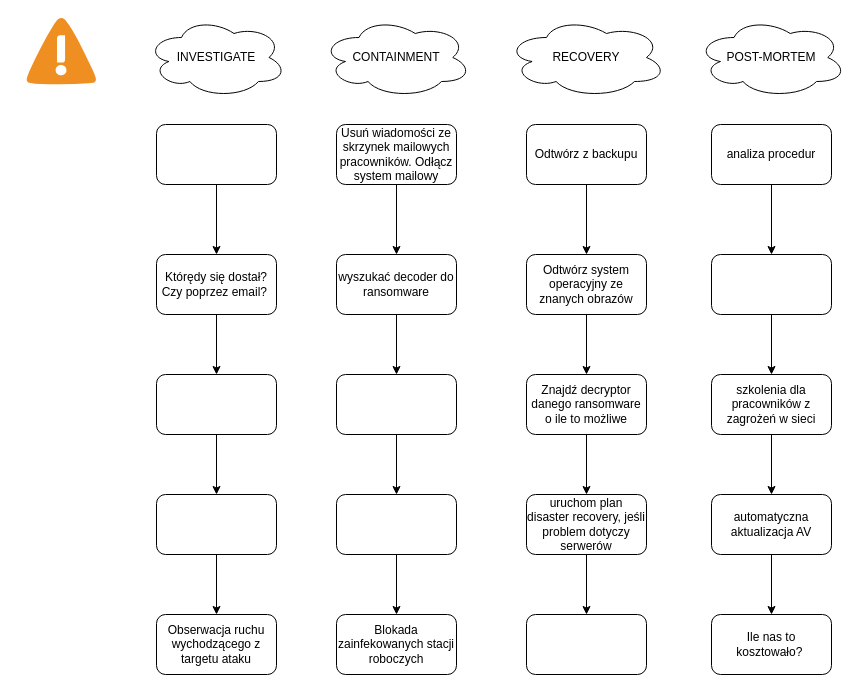
The diagram is 864 pixels wide and 692 high, and some of its shapes have lost their labels. The shapes that lost their labels are listed below. From the top down, each one's centre as x and y in pixels, then its label:
At (61,50): "RANSOMWARE".
At (216,154): "Jaki to jest ransomware? Jakie komunikaty wyświetla".
At (771,284): "Testy odtwarzania z backupu".
At (216,404): "Czy jeden komputer? Jakie systemy zostały zainfekowane?".
At (396,404): "odłączyć komputer od sieci firmowej. wyłącz komputer".
At (216,524): "Jakie pliki zostały zaszyfrowane? Czy dane są newralgiczne?".
At (396,524): "Komunikat z ostrzeżeniem do pracowników".
At (586,644): "Zapłacenie okupu".
